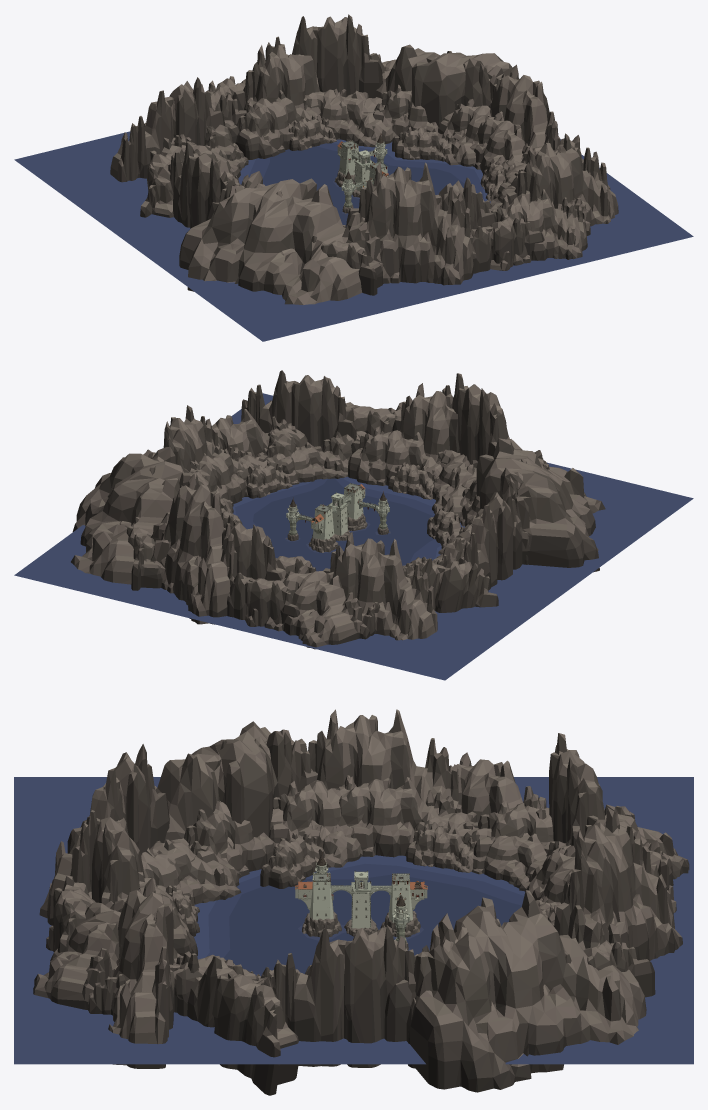
The model's file is towers.glb.
The picture shows the model from 3 angles, top to bottom: view 1: azimuth 30°, elevation 25°; view 2: azimuth 150°, elevation 25°; view 3: azimuth 270°, elevation 25°; orthographic projection. The views are drawn at different scales.
Parts seen in each view (by area): view 1: water.001, Mball.024, Mball.027, Mball.029, Mball.033, Mball.018, Mball.021, Mball.039, Mball.006, Mball.009, Mball.052, Mball.041 (+16 smaller); view 2: water.001, Mball.024, Mball.029, Mball.021, Mball.033, Mball.011, Mball.018, Mball.009, Mball.016, Mball.027, Mball.044, Mball.030 (+18 smaller); view 3: water.001, Mball.029, Mball.041, Mball.021, Mball.024, Mball.018, Mball.022, Mball.009, Mball.027, Mball.032, Mball.039, Mball.033 (+22 smaller).
Part boxes in pixels (x1=…): water.001: x1=14, y1=131, x2=693, y2=341; Mball.024: x1=179, y1=171, x2=383, y2=305; Mball.027: x1=346, y1=162, x2=473, y2=285; Mball.029: x1=369, y1=44, x2=549, y2=126; Mball.033: x1=110, y1=77, x2=225, y2=182; Mball.018: x1=506, y1=133, x2=618, y2=226; Mball.021: x1=265, y1=14, x2=382, y2=97; Mball.039: x1=491, y1=189, x2=587, y2=265; Mball.006: x1=232, y1=44, x2=338, y2=114; Mball.009: x1=168, y1=142, x2=235, y2=228; Mball.052: x1=228, y1=90, x2=321, y2=159; Mball.041: x1=490, y1=64, x2=560, y2=156; water.001: x1=14, y1=393, x2=693, y2=680; Mball.024: x1=476, y1=438, x2=605, y2=572; Mball.029: x1=71, y1=447, x2=199, y2=584; Mball.021: x1=160, y1=474, x2=236, y2=624; Mball.033: x1=323, y1=532, x2=437, y2=640; Mball.011: x1=264, y1=565, x2=362, y2=649; Mball.018: x1=241, y1=370, x2=356, y2=446; Mball.009: x1=448, y1=486, x2=520, y2=589; Mball.016: x1=348, y1=426, x2=447, y2=486; Mball.027: x1=442, y1=373, x2=513, y2=464; Mball.044: x1=392, y1=383, x2=467, y2=468; Mball.030: x1=403, y1=558, x2=498, y2=612; water.001: x1=14, y1=777, x2=693, y2=1064; Mball.029: x1=384, y1=890, x2=646, y2=1092; Mball.041: x1=264, y1=925, x2=415, y2=1067; Mball.021: x1=554, y1=807, x2=682, y2=960; Mball.024: x1=80, y1=721, x2=317, y2=842; Mball.018: x1=108, y1=878, x2=173, y2=1068; Mball.022: x1=176, y1=951, x2=298, y2=1095; Mball.009: x1=308, y1=709, x2=458, y2=807; Mball.027: x1=39, y1=744, x2=169, y2=925; Mball.032: x1=336, y1=776, x2=462, y2=857; Mball.039: x1=33, y1=900, x2=124, y2=1009; Mball.033: x1=549, y1=733, x2=605, y2=848.
Size of the model in its own units: 548 by 158 by 528.
